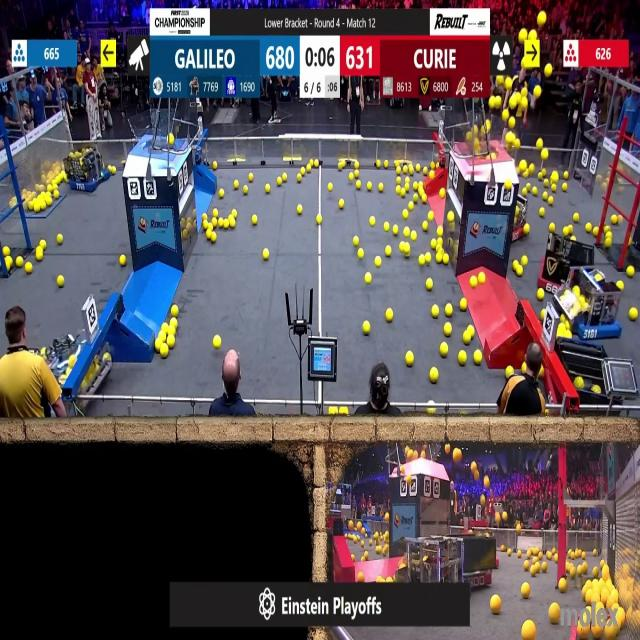ball_airborne: (537, 11, 546, 25), (510, 97, 519, 110), (453, 449, 461, 463), (543, 64, 551, 78), (521, 97, 528, 111), (504, 77, 512, 89), (520, 30, 528, 42), (490, 97, 498, 109), (522, 58, 530, 70), (506, 133, 514, 144), (504, 180, 512, 190), (501, 109, 508, 120), (533, 88, 540, 99), (507, 116, 514, 127), (530, 30, 537, 41), (540, 148, 547, 159), (520, 162, 527, 172), (496, 75, 503, 85), (536, 139, 543, 149), (552, 173, 559, 183), (445, 445, 452, 455), (486, 119, 492, 130), (484, 478, 490, 488), (472, 127, 478, 137), (515, 138, 521, 148), (466, 132, 472, 142), (408, 449, 413, 461), (470, 462, 476, 471), (472, 138, 478, 147), (495, 514, 500, 524), (522, 90, 528, 98), (169, 136, 174, 145), (502, 513, 507, 522), (421, 448, 426, 457), (399, 464, 404, 473), (481, 496, 486, 504), (482, 126, 486, 134), (530, 165, 534, 173)
ball_ground: (550, 605, 561, 625), (523, 622, 535, 640), (491, 596, 500, 615), (522, 584, 530, 600), (458, 351, 466, 365), (406, 352, 414, 366), (429, 367, 437, 381), (472, 351, 480, 364), (213, 337, 221, 350), (362, 321, 370, 334), (446, 305, 454, 318), (441, 344, 449, 357), (558, 580, 566, 593), (386, 310, 394, 322), (536, 288, 544, 300), (630, 308, 638, 320), (505, 365, 513, 377), (445, 323, 453, 335), (4, 256, 12, 268), (586, 592, 594, 604), (431, 306, 438, 319), (36, 248, 43, 261), (402, 243, 409, 256), (462, 334, 470, 345), (172, 306, 179, 318), (460, 300, 467, 312), (168, 338, 175, 350), (364, 273, 371, 285), (469, 328, 476, 340), (602, 566, 609, 578), (356, 571, 364, 581), (426, 279, 433, 290), (59, 276, 66, 287), (419, 254, 426, 265), (15, 256, 22, 267), (469, 277, 476, 288), (154, 341, 161, 352), (479, 274, 486, 285), (604, 238, 611, 249), (162, 347, 169, 358), (119, 254, 125, 266), (524, 223, 530, 235), (405, 181, 411, 193), (57, 235, 64, 245), (435, 253, 442, 263), (563, 224, 570, 234), (230, 218, 237, 228), (386, 246, 392, 257), (27, 264, 33, 275), (264, 249, 270, 260), (517, 267, 523, 278), (168, 326, 176, 334), (618, 281, 625, 290), (171, 318, 178, 327), (550, 223, 557, 232), (339, 162, 346, 171), (530, 566, 537, 575), (412, 232, 418, 242), (628, 268, 634, 278), (444, 254, 450, 264), (376, 256, 382, 266), (587, 222, 593, 232), (353, 237, 359, 247), (448, 212, 454, 222), (211, 234, 217, 244), (4, 246, 10, 256), (392, 225, 398, 235), (358, 248, 363, 260), (573, 213, 579, 223), (541, 562, 547, 572), (593, 567, 599, 577), (54, 190, 61, 198), (205, 232, 212, 240), (438, 238, 445, 246), (402, 210, 408, 219), (40, 241, 46, 250), (522, 256, 528, 265), (243, 184, 249, 193), (218, 188, 224, 197), (316, 215, 322, 224), (610, 215, 616, 224), (234, 180, 240, 189), (403, 229, 409, 238), (430, 240, 436, 249), (539, 311, 545, 320), (223, 219, 229, 228), (330, 185, 336, 194), (593, 226, 599, 235), (617, 215, 623, 224), (252, 215, 257, 225), (369, 216, 374, 226), (426, 253, 431, 263), (522, 362, 527, 372), (218, 218, 223, 228), (384, 222, 390, 230), (266, 184, 272, 192), (422, 222, 428, 230), (395, 185, 401, 193), (552, 183, 558, 191), (282, 174, 288, 182), (212, 209, 218, 217), (212, 218, 218, 226), (421, 196, 427, 204), (413, 182, 419, 190), (524, 562, 530, 570), (604, 224, 610, 232), (413, 193, 419, 201), (314, 161, 320, 169), (522, 187, 528, 195), (605, 232, 611, 240), (203, 213, 209, 221), (340, 200, 345, 209), (539, 208, 544, 217), (547, 198, 552, 207), (356, 180, 361, 189), (532, 186, 537, 195), (428, 212, 433, 221), (410, 202, 415, 211), (437, 226, 442, 235), (354, 170, 359, 179), (378, 575, 384, 582), (428, 410, 434, 417), (348, 174, 354, 181), (328, 410, 334, 417), (163, 324, 169, 331), (343, 410, 349, 417), (380, 182, 384, 192), (563, 183, 568, 191), (296, 206, 301, 214), (366, 182, 371, 190), (442, 188, 446, 198), (233, 210, 238, 218), (296, 175, 301, 183), (564, 172, 569, 180), (111, 167, 116, 175), (396, 168, 401, 176), (204, 220, 209, 228), (542, 190, 547, 198), (423, 168, 428, 176), (416, 166, 421, 174), (402, 167, 407, 175), (299, 168, 304, 176), (377, 544, 382, 552), (351, 554, 356, 562), (363, 554, 368, 562), (542, 179, 547, 187), (214, 160, 218, 169), (410, 167, 414, 176), (396, 177, 401, 184), (387, 575, 392, 582), (354, 163, 359, 170), (328, 182, 332, 190), (249, 174, 253, 182), (278, 180, 282, 188), (400, 188, 404, 196), (514, 263, 518, 271), (516, 552, 520, 560), (308, 166, 312, 174), (377, 162, 381, 170), (555, 555, 559, 563), (507, 550, 511, 557), (384, 162, 388, 169), (594, 550, 598, 557)
goal: (129, 115, 188, 152), (464, 122, 514, 161)
robot_blue: (41, 333, 114, 414), (554, 271, 624, 344), (66, 145, 106, 193)
robot_red: (540, 240, 597, 295), (451, 532, 499, 591)
